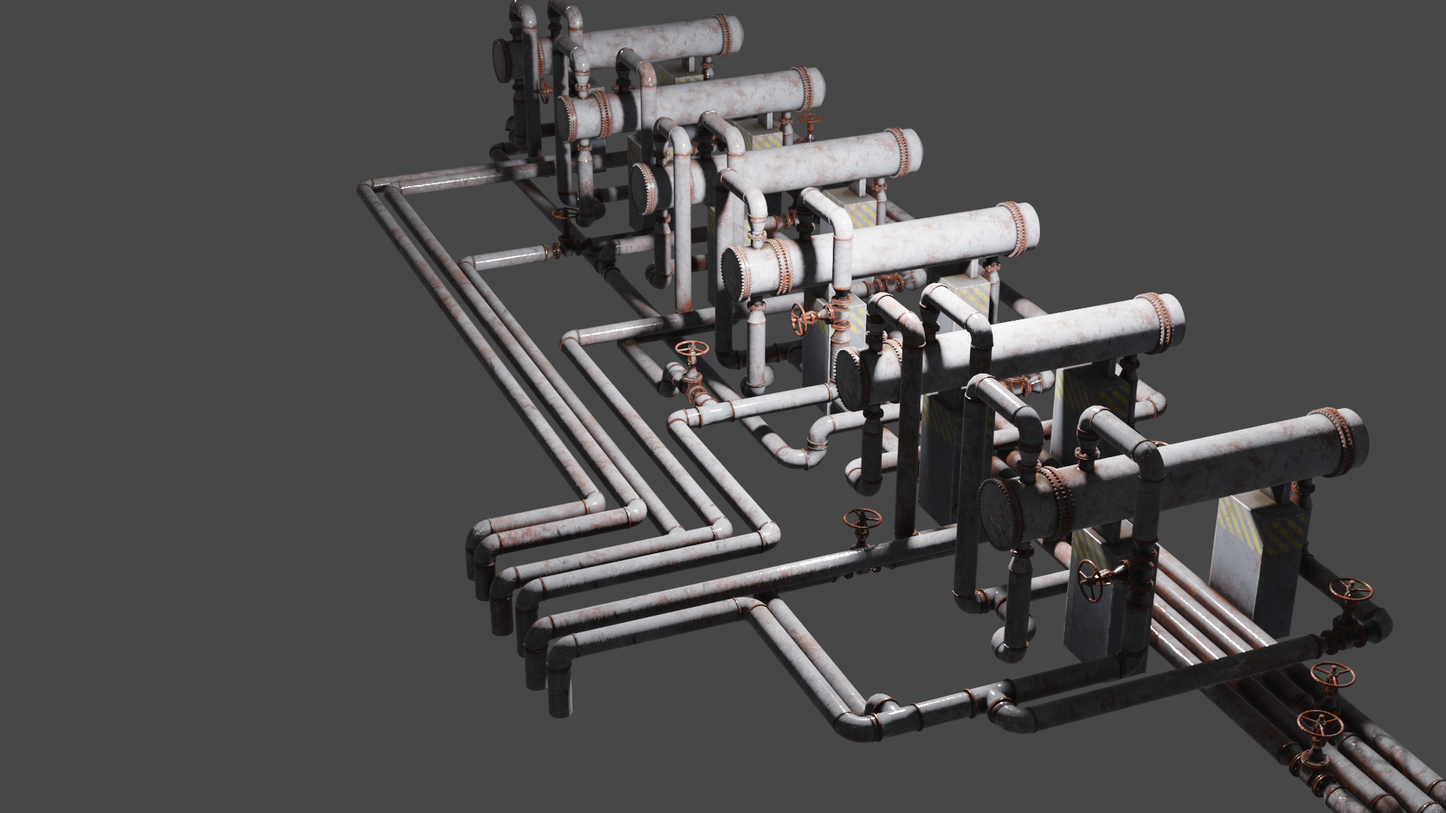HE_1: (490, 12, 748, 84)
HE_2: (552, 64, 828, 139)
HE_3: (625, 127, 927, 217)
HE_4: (720, 199, 1040, 302)
HE_5: (832, 287, 1189, 410)
HE_6: (977, 404, 1368, 550)
